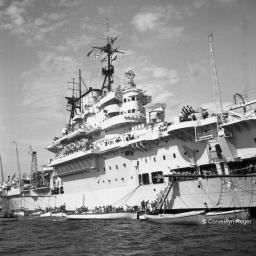Portanaves: (6, 17, 251, 218)
